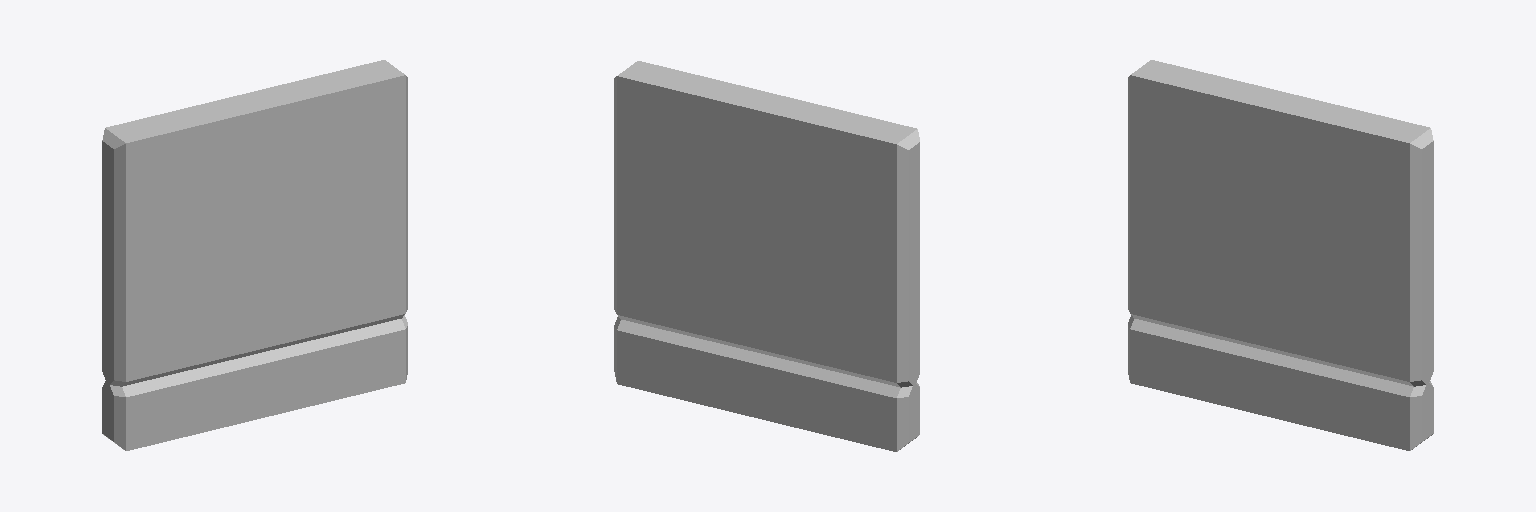
Rendered from Wall.obj.
The picture shows the model from 3 angles: view 1: azimuth 30°, elevation 25°; view 2: azimuth 150°, elevation 25°; view 3: azimuth 330°, elevation 25°; orthographic projection.
Parts seen in each view (by area): view 1: Wall_Cube.16094; view 2: Wall_Cube.16094; view 3: Wall_Cube.16094.
Boxes of the visible parts, x1,y1,x2,y2 form: Wall_Cube.16094: [102, 60, 407, 450]; Wall_Cube.16094: [614, 61, 919, 451]; Wall_Cube.16094: [1128, 60, 1433, 450].
Size of the model in its own units: 4 by 4 by 0.53.